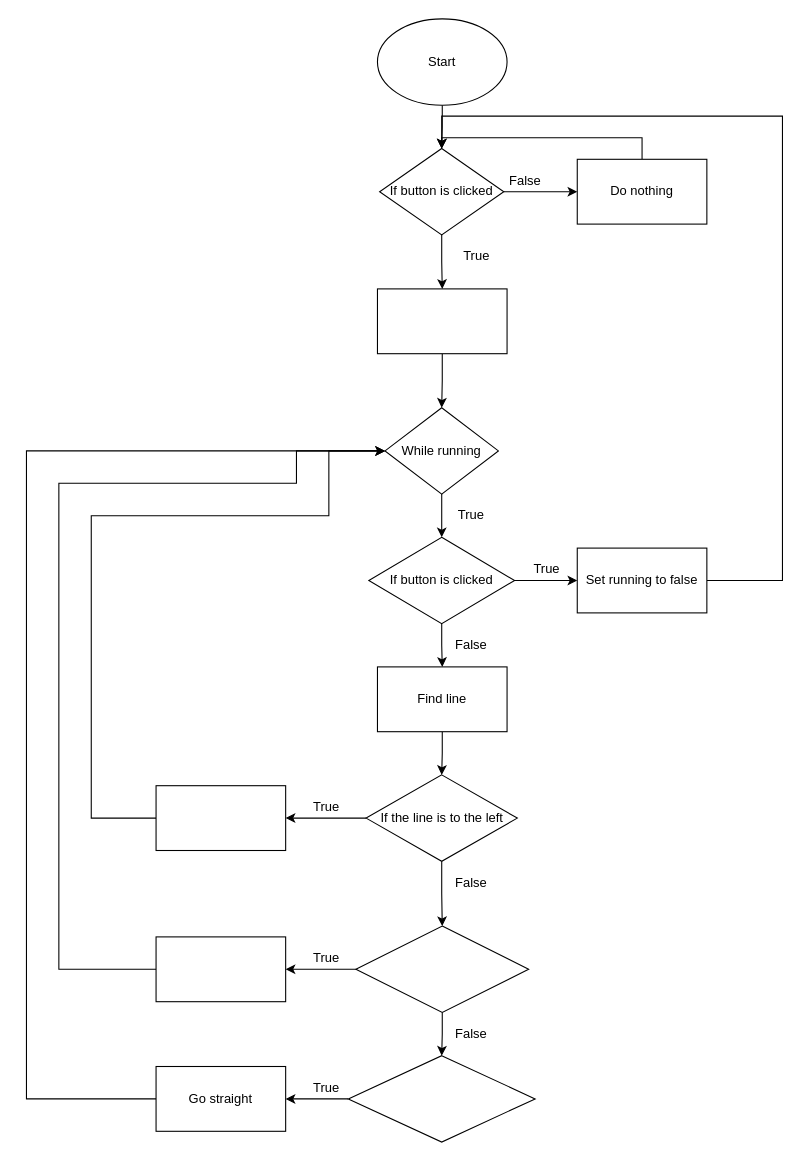
The diagram is 810 pixels wide and 1161 high, and some of its shapes have lost their labels. The box of each missing label's shape, as (x1, y1, x2, y2) in pixels:
If the line is straight ahead: (347, 1055, 535, 1142)
If the line is to the right: (355, 925, 529, 1013)
Set running to true: (376, 288, 507, 354)
Turn left: (155, 785, 286, 850)
Turn right: (155, 936, 286, 1002)
